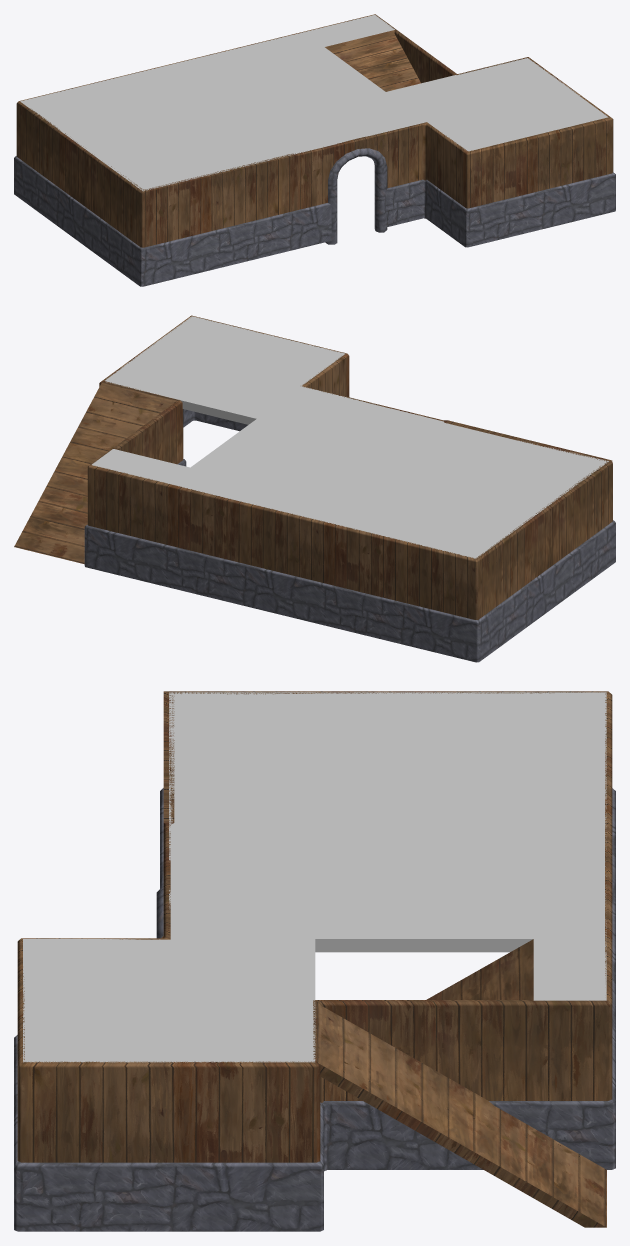
The picture shows the model from 3 angles, top to bottom: view 1: azimuth 30°, elevation 25°; view 2: azimuth 150°, elevation 25°; view 3: azimuth 270°, elevation 25°; orthographic projection. The views are drawn at different scales.
Parts seen in each view (by area): view 1: HeadFloor.003, Plane.019, Plane.018, HeadFloor.009, Plane.016; view 2: HeadFloor.003, Plane.019, Plane.018, HQStairs2; view 3: HeadFloor.003, Plane.019, Plane.018, HQStairs2, HeadFloor.009.
Boxes of the visible parts, x1,y1,x2,y2 form: HeadFloor.003: (20,15,608,191); Plane.019: (16,14,613,247); Plane.018: (14,156,615,286); HeadFloor.009: (325,30,420,91); Plane.016: (325,148,387,244); HeadFloor.003: (92,316,608,558); Plane.019: (87,315,612,619); Plane.018: (84,409,615,662); HQStairs2: (14,381,177,564); HeadFloor.003: (23,692,606,1062); Plane.019: (17,691,612,1162); Plane.018: (14,788,615,1231); HQStairs2: (316,1001,606,1227); HeadFloor.009: (426,939,533,999).
Bounding box in the file's own units: 24.5 × 5.2 × 16.5.
